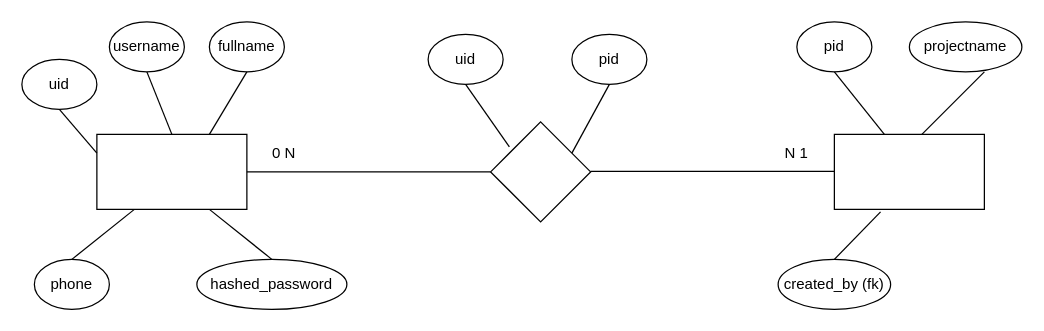
Some shapes in this 1044 by 331 pixel diagram are drawn without their labels. The centre of each missing label's shape, as x and y in pixels:
"Exists In" goes at point 540,171.
"Projects" goes at point 908,171.
"Users" goes at point 171,171.
